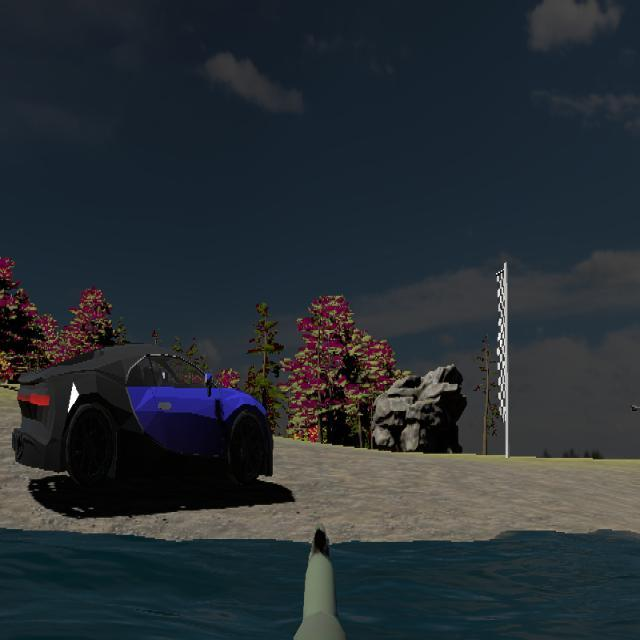car: (13, 346, 275, 490)
